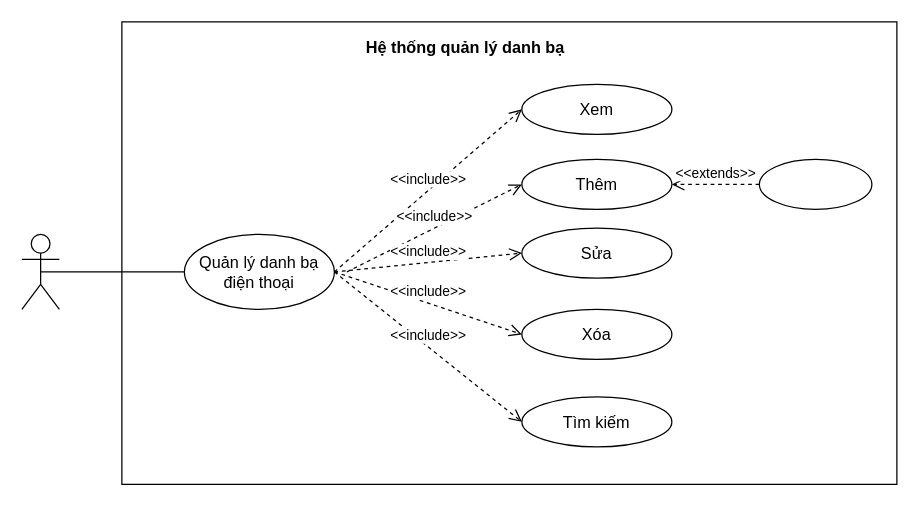
Image size: 919x506. Some labels were removed from this diagram. The box of each missing label's shape, as (x1, y1, x2, y2) in pixels:
Nhập từ file excel: (758, 158, 872, 209)
User: (21, 233, 59, 309)
